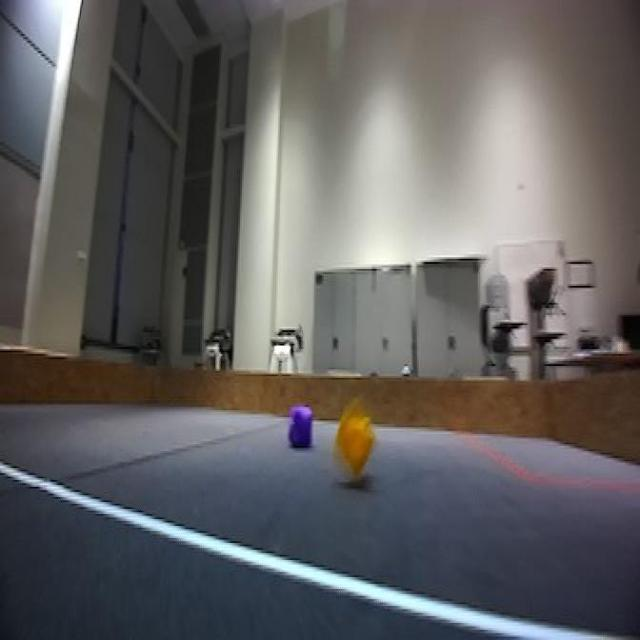frc_cone: (331, 397, 377, 485)
frc_cube: (287, 407, 315, 454)
